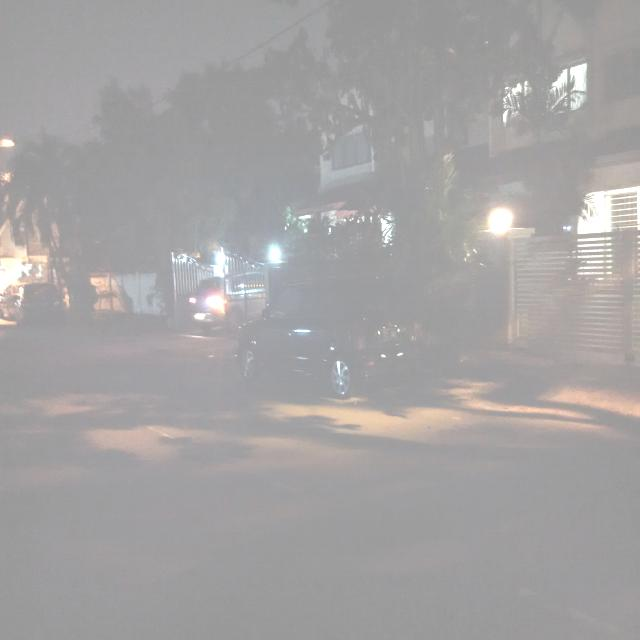Car: (235, 306, 368, 410), (186, 273, 226, 346)
